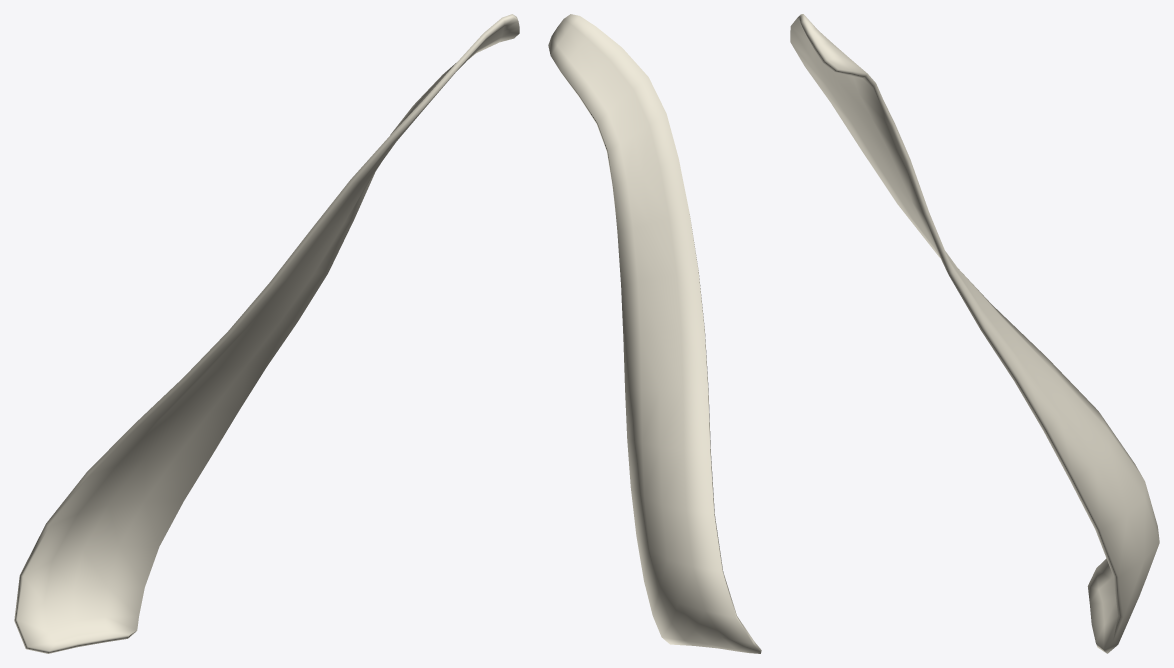
3 views of the same model, side by side, from view 1: azimuth 30°, elevation 25°; view 2: azimuth 150°, elevation 25°; view 3: azimuth 270°, elevation 25° (orthographic). The views are drawn at different scales.
Parts seen in each view (by area): view 1: ZA_e6f5a0d20b1639f1; view 2: ZA_e6f5a0d20b1639f1; view 3: ZA_e6f5a0d20b1639f1.
Boxes of the visible parts, left/top/right/bottom form: ZA_e6f5a0d20b1639f1: left=14, top=14, right=519, bottom=653; ZA_e6f5a0d20b1639f1: left=548, top=14, right=761, bottom=653; ZA_e6f5a0d20b1639f1: left=790, top=14, right=1159, bottom=653.
Size of the model in its own units: 0.0436 by 0.0711 by 0.0304.
